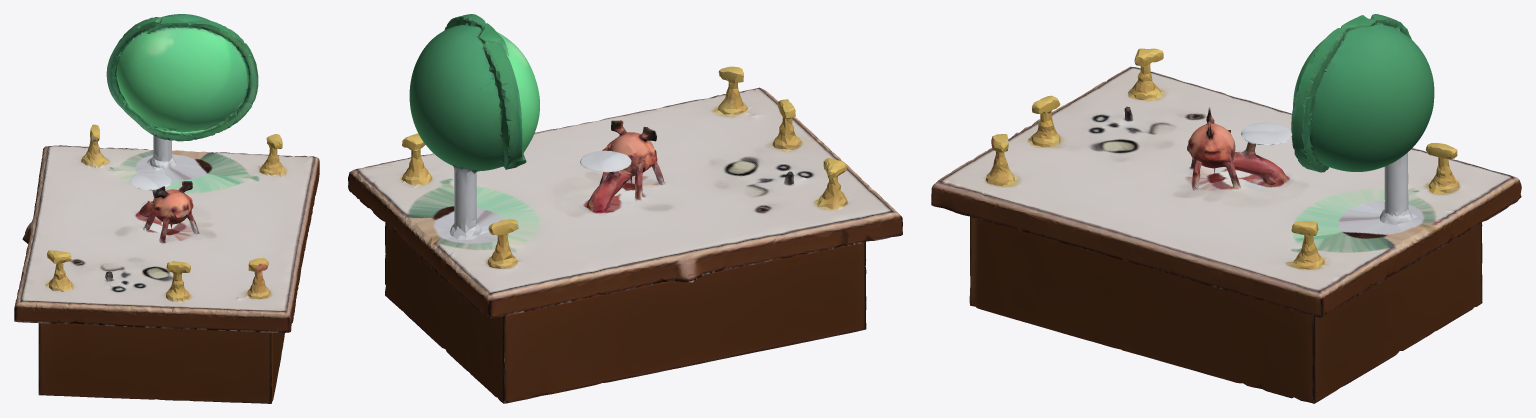
Rendered from Station_DroneMonitor.glb.
The picture shows the model from 3 angles, left to right: view 1: azimuth 30°, elevation 25°; view 2: azimuth 150°, elevation 25°; view 3: azimuth 270°, elevation 25°; orthographic projection. The views are drawn at different scales.
Parts seen in each view (by area): view 1: Station_DroneMonitor_v2; view 2: Station_DroneMonitor_v2; view 3: Station_DroneMonitor_v2.
Boxes of the visible parts, left/top/right/bottom form: Station_DroneMonitor_v2: left=14, top=14, right=319, bottom=403; Station_DroneMonitor_v2: left=348, top=14, right=902, bottom=403; Station_DroneMonitor_v2: left=931, top=14, right=1521, bottom=403.
Bounding box in the file's own units: 2.11 × 1.35 × 2.26.
Materials: 1 (1 with a texture image).
